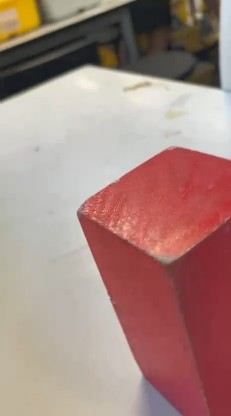red: (111, 151, 216, 402)
